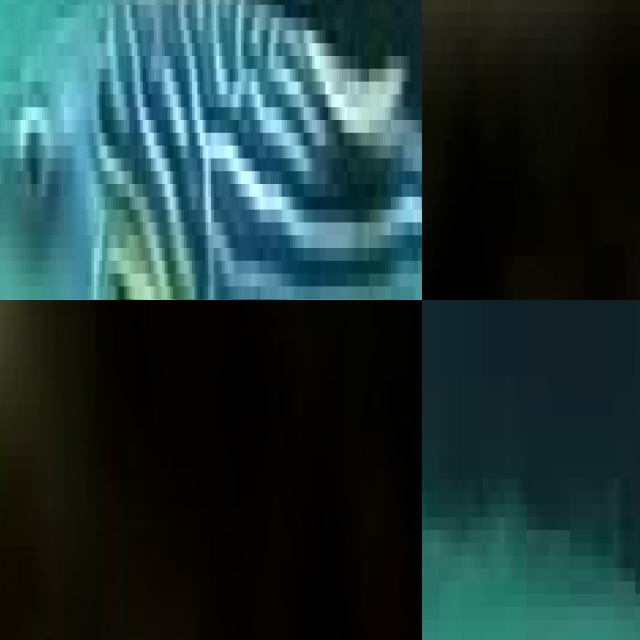fish: (0, 0, 422, 300)
